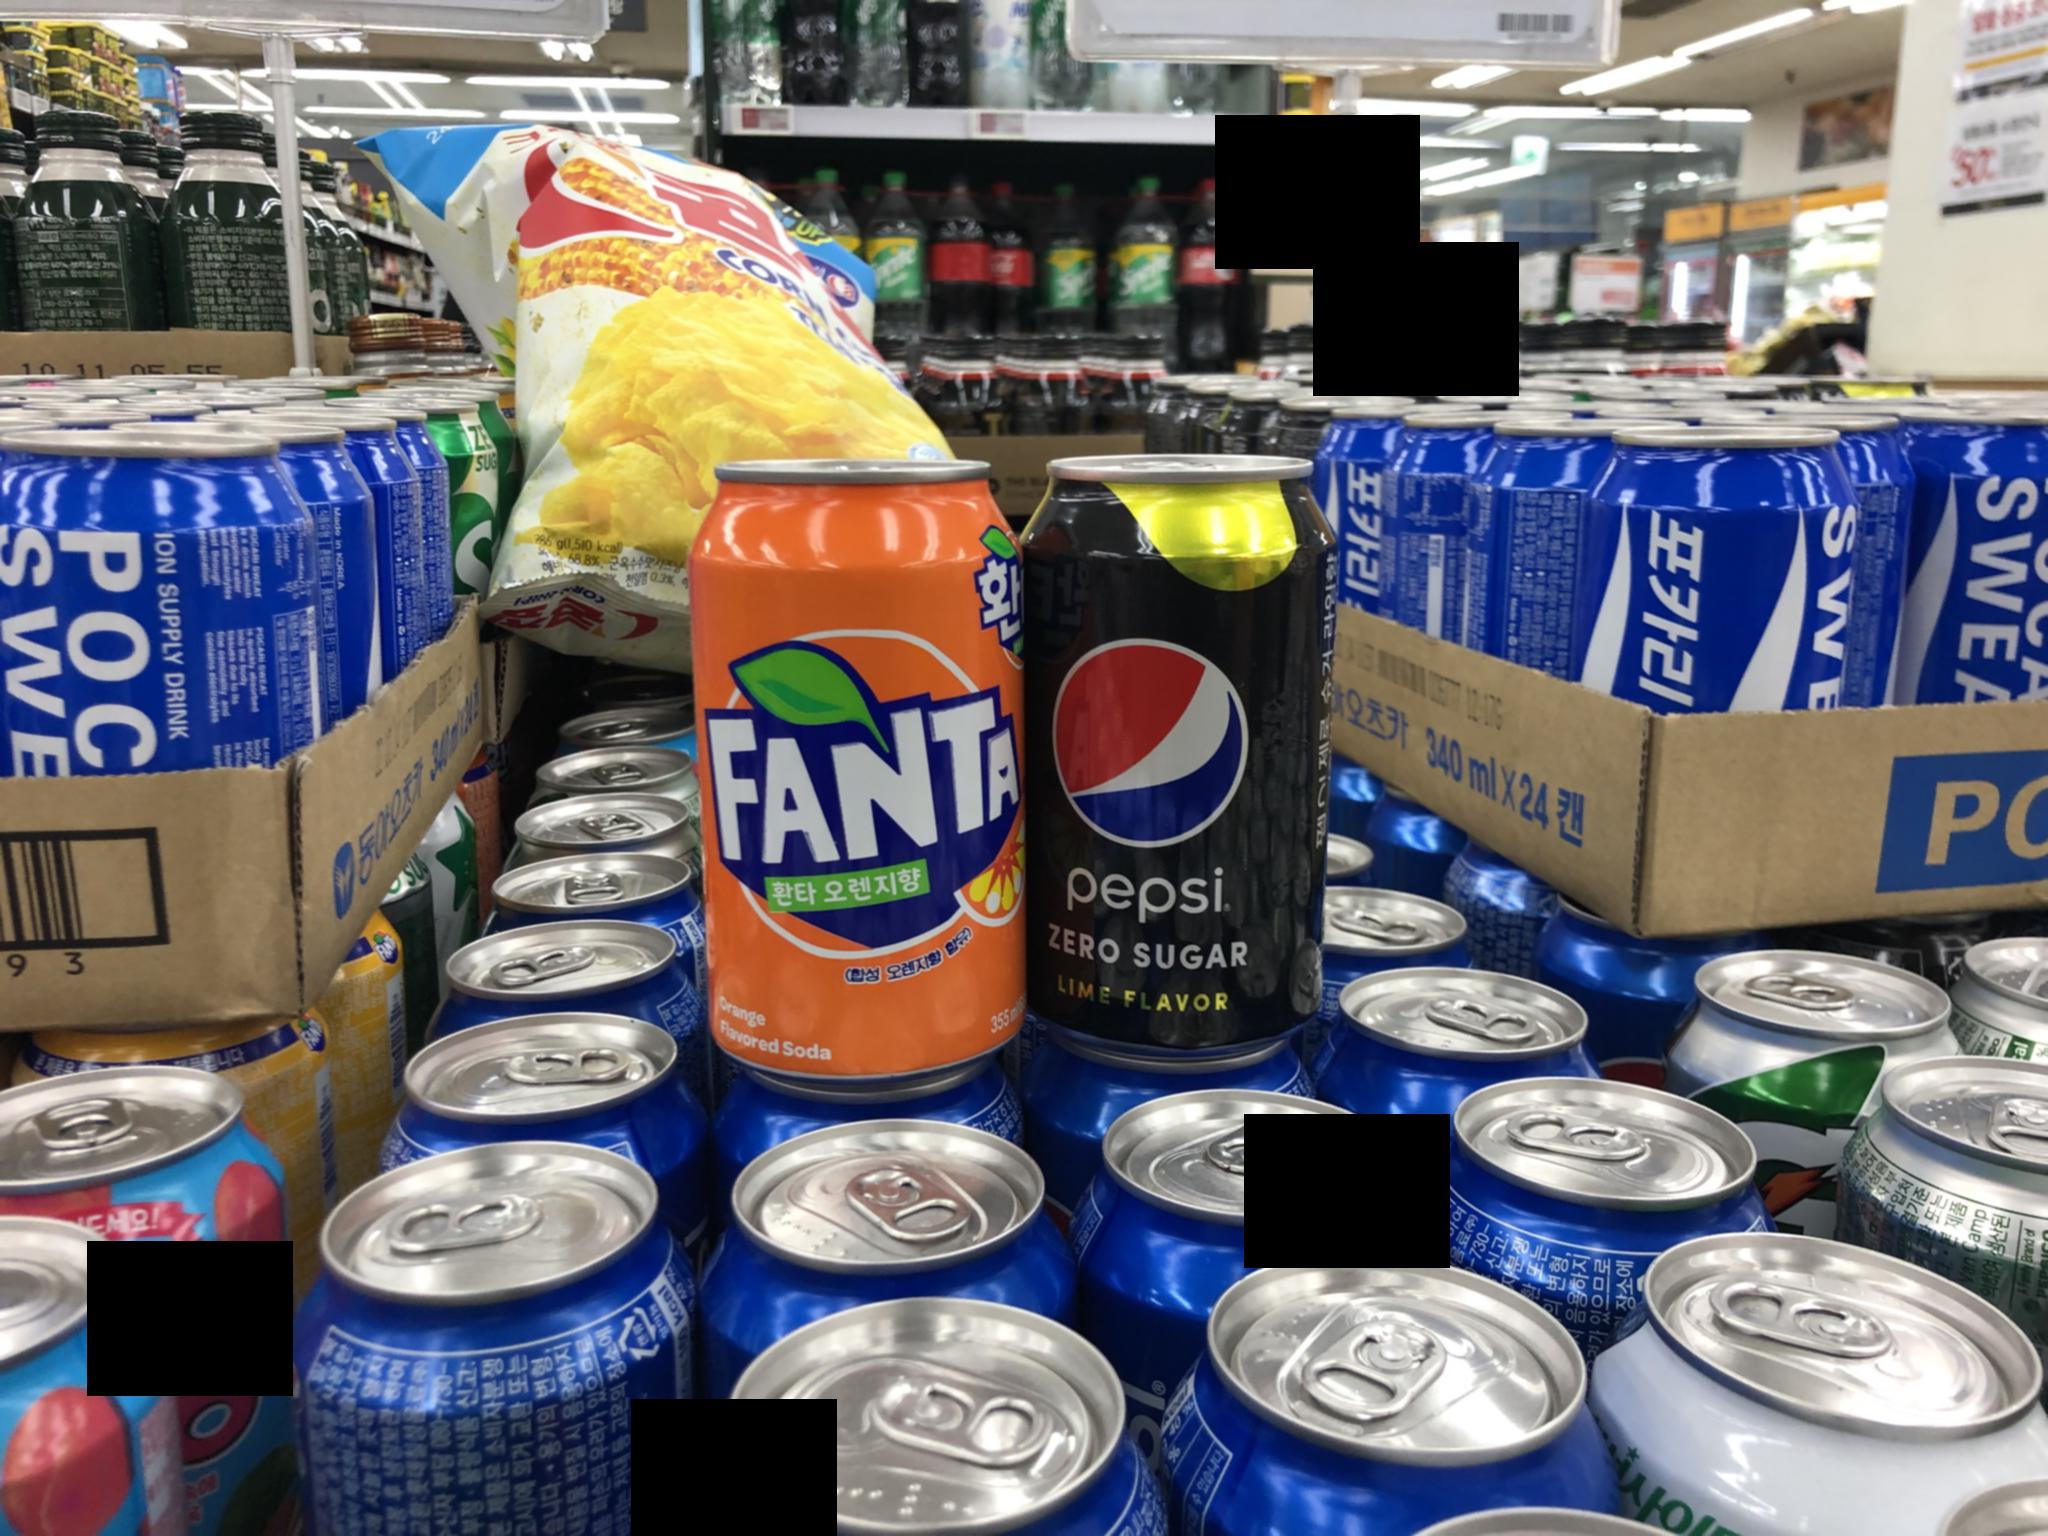fanta_orange: (637, 447, 1034, 1096)
pepsi_zero: (1022, 458, 1350, 1055)
